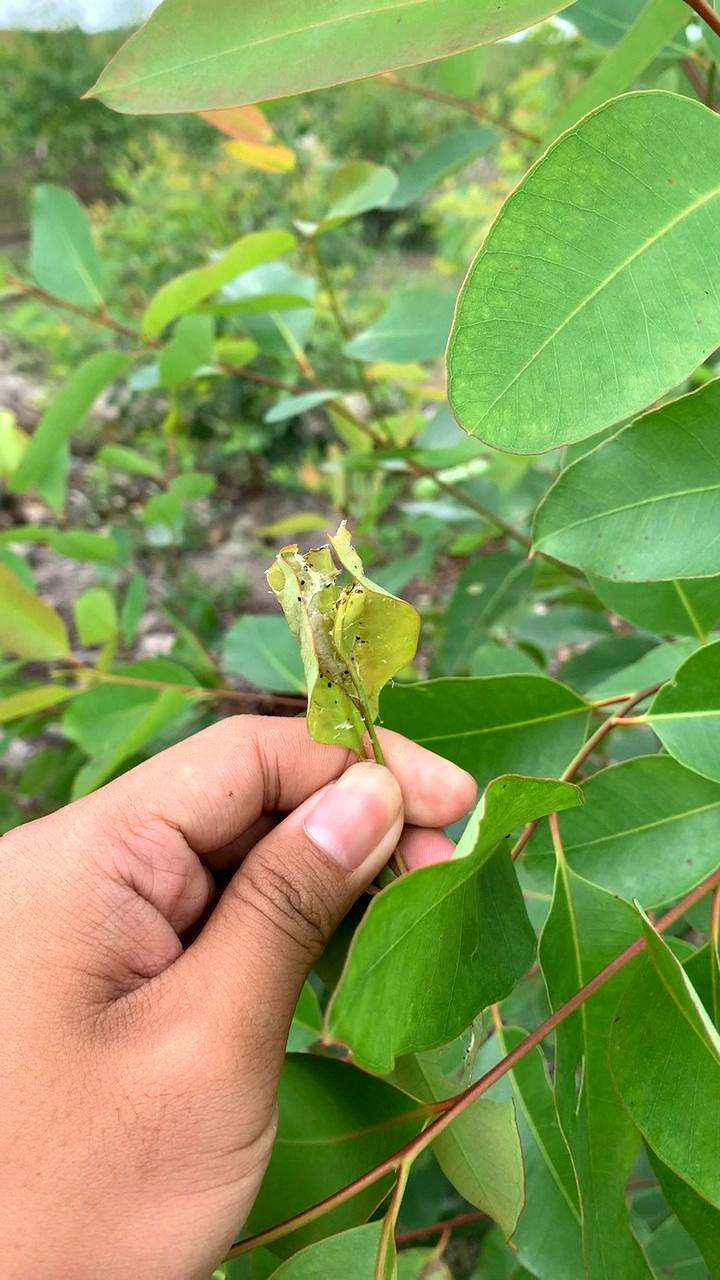Leaf Roller - Leaf: (256, 513, 427, 771)
